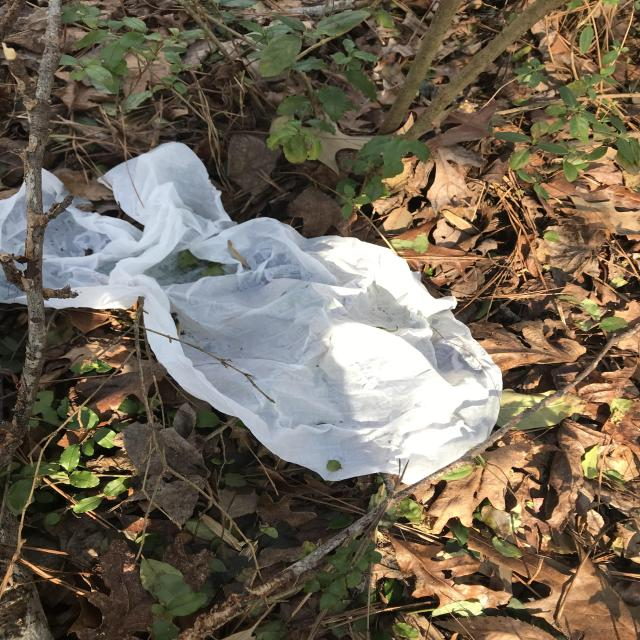litter: (3, 0, 505, 488)
